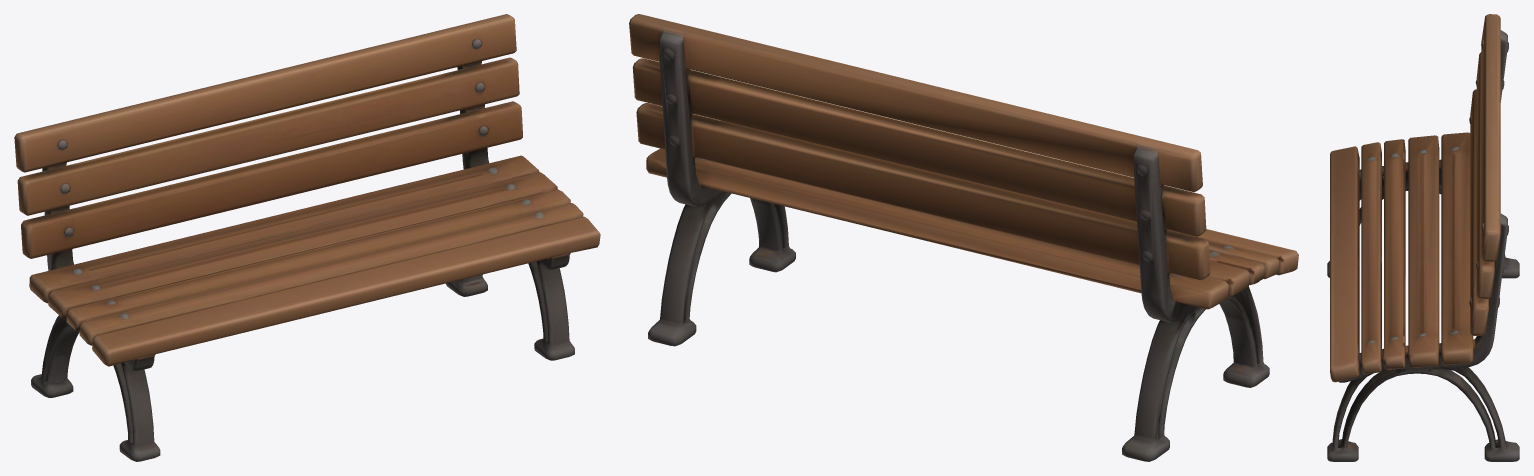
The model's file is Furniture__bench_a0d4ec94_v4.cluster.glb.
3 renders of one model, left to right at view 1: azimuth 30°, elevation 25°; view 2: azimuth 150°, elevation 25°; view 3: azimuth 270°, elevation 25°, orthographic. The views are drawn at different scales.
Parts seen in each view (by area): view 1: mesh_input; view 2: mesh_input; view 3: mesh_input.
Part boxes in pixels (bbox=[...]): mesh_input: bbox=[14, 14, 600, 461]; mesh_input: bbox=[629, 14, 1298, 461]; mesh_input: bbox=[1327, 14, 1519, 461].
Size of the model in its own units: 1.9 by 0.9824 by 0.7051.
1 material, 1 textured.
